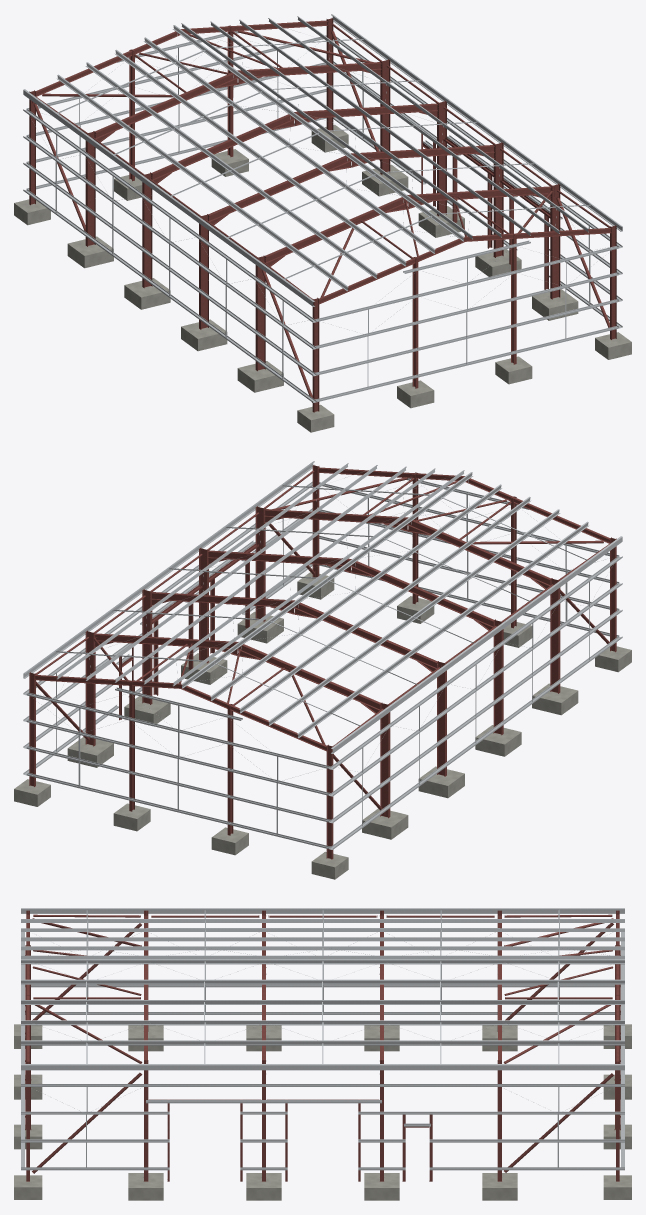
The model's file is steel-portal-frame-building.glb.
3 renders of one model, top to bottom at view 1: azimuth 30°, elevation 25°; view 2: azimuth 150°, elevation 25°; view 3: azimuth 270°, elevation 25°, orthographic. The views are drawn at different scales.
Parts seen in each view (by area): view 1: Object_2569, Object_2571, Object_34, Object_18, Object_26, Object_10, Object_8, Object_28, Object_30, Object_36, Object_22, Object_20 (+13 smaller); view 2: Object_2569, Object_2571, Object_10, Object_26, Object_18, Object_34, Object_32, Object_20, Object_6, Object_12, Object_14, Object_28 (+13 smaller); view 3: Object_2569, Object_2571, Object_1672, Object_1680, Object_1674, Object_1676, Object_1678, Object_898, Object_906, Object_974, Object_982, Object_1058 (+69 smaller).
Boxes of the visible parts, <box> form: Object_2569: <box>67,164,578,392</box>; Object_2571: <box>14,124,631,432</box>; Object_34: <box>95,73,238,138</box>; Object_18: <box>208,155,351,221</box>; Object_26: <box>152,114,294,180</box>; Object_10: <box>265,197,408,263</box>; Object_8: <box>550,183,560,299</box>; Object_28: <box>294,103,437,119</box>; Object_30: <box>85,131,95,246</box>; Object_36: <box>237,62,381,77</box>; Object_22: <box>142,172,152,287</box>; Object_20: <box>351,145,494,160</box>; Object_2569: <box>67,611,578,839</box>; Object_2571: <box>14,572,631,879</box>; Object_10: <box>407,520,550,585</box>; Object_26: <box>294,602,437,668</box>; Object_18: <box>351,561,493,627</box>; Object_34: <box>237,644,380,710</box>; Object_32: <box>85,630,95,746</box>; Object_20: <box>208,550,351,566</box>; Object_6: <box>550,578,560,693</box>; Object_12: <box>264,509,408,524</box>; Object_14: <box>493,619,503,734</box>; Object_28: <box>151,592,294,607</box>; Object_2569: <box>128,1025,517,1200</box>; Object_2571: <box>14,1024,631,1199</box>; Object_1672: <box>21,1064,145,1070</box>; Object_1680: <box>500,1064,624,1070</box>; Object_1674: <box>146,1064,263,1070</box>; Object_1676: <box>264,1064,381,1070</box>; Object_1678: <box>382,1064,499,1070</box>; Object_898: <box>21,1040,145,1045</box>; Object_906: <box>500,1040,624,1045</box>; Object_974: <box>21,1020,145,1025</box>; Object_982: <box>500,1020,624,1025</box>; Object_1058: <box>21,959,145,964</box>.
Bounding box in the file's own units: 16.5 × 7.53 × 26.2.
4 materials, 4 textured.
